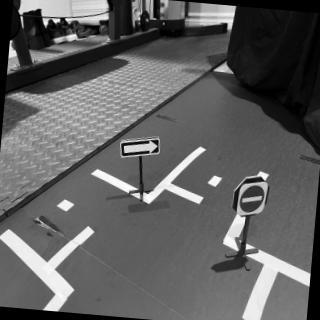sign_noentry: (236, 180, 272, 220)
sign_oneway_right: (119, 133, 163, 164)
